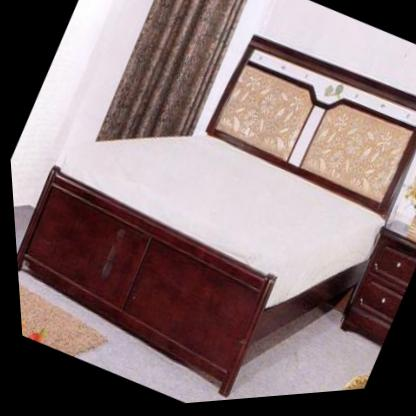Bed: (14, 39, 416, 400)
